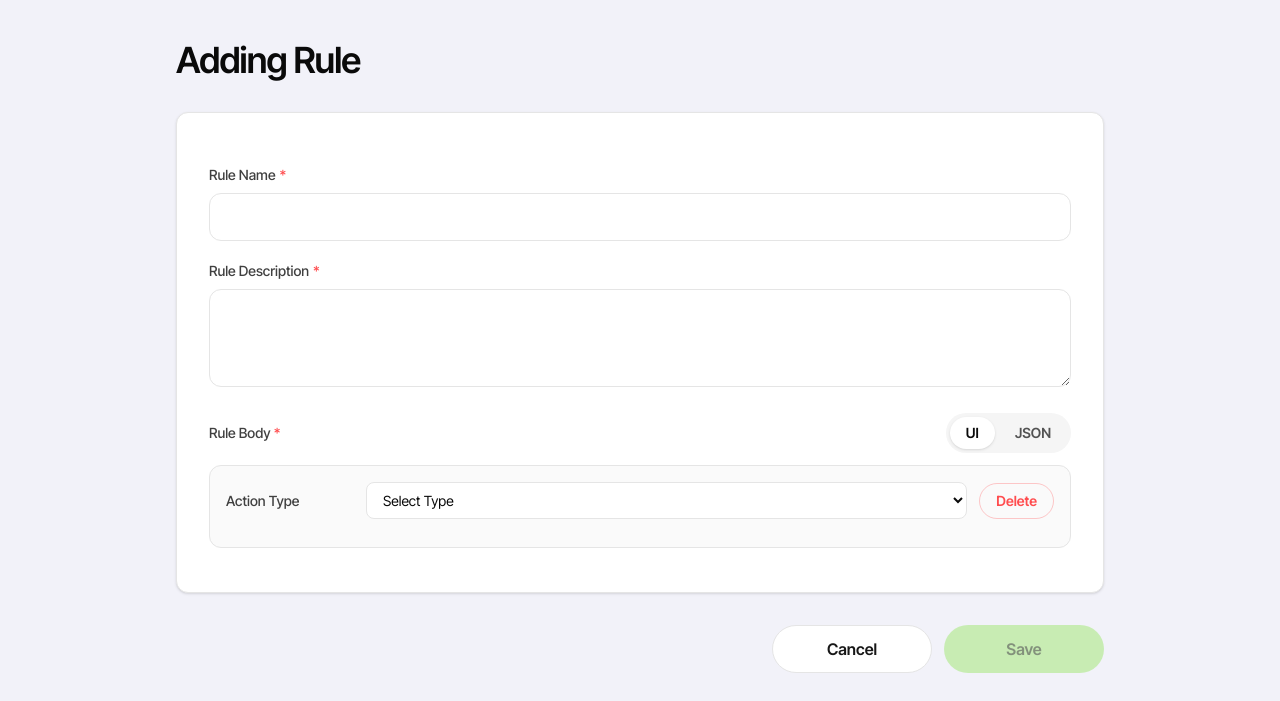
Test: AddRulePage (component integration, real RuleForm/ActionEditor) › shows a generic form error when addRule throws a non-validation error
The image size is (1280, 701).
Expected: the button "Save" is shown, 944,625 -> 1104,673
Type "X" into the field labelled "Rule Name*" at (640,217), box 209,193 -> 1071,241
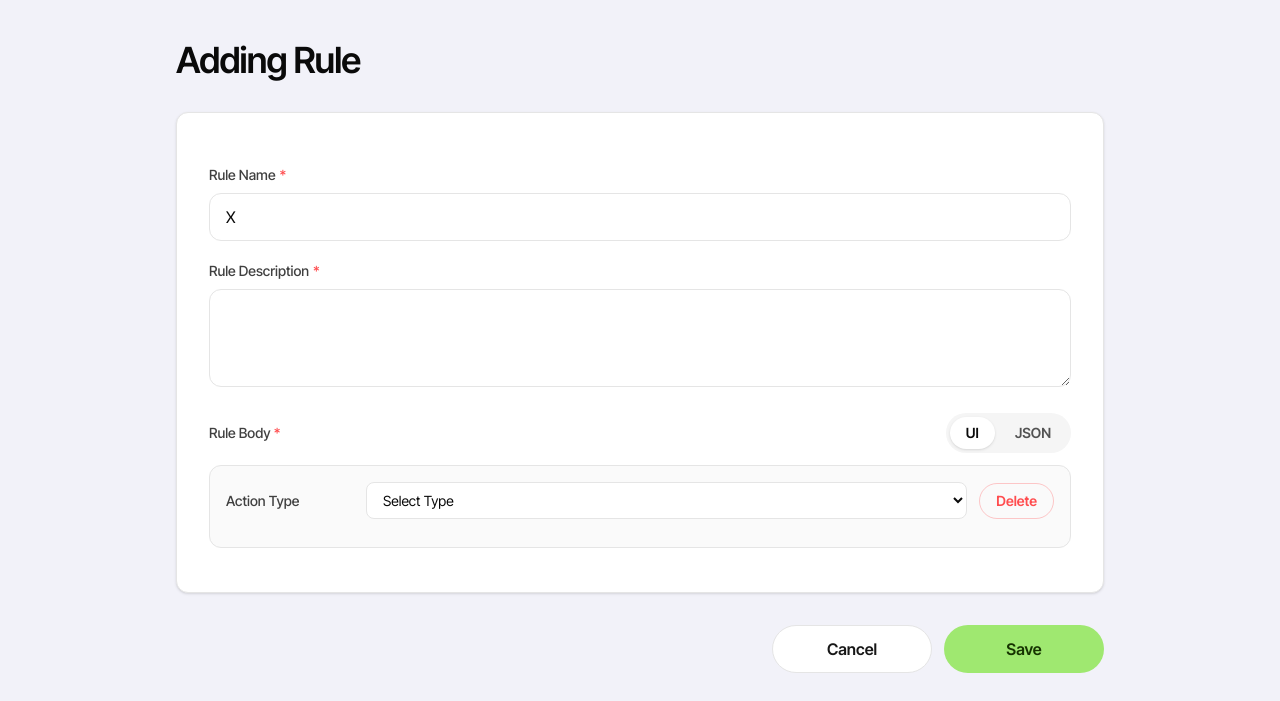
Select "Log" in the dropdown labelled "Action Type" at (667,500), box 366,482 -> 967,519
(page scrolled)
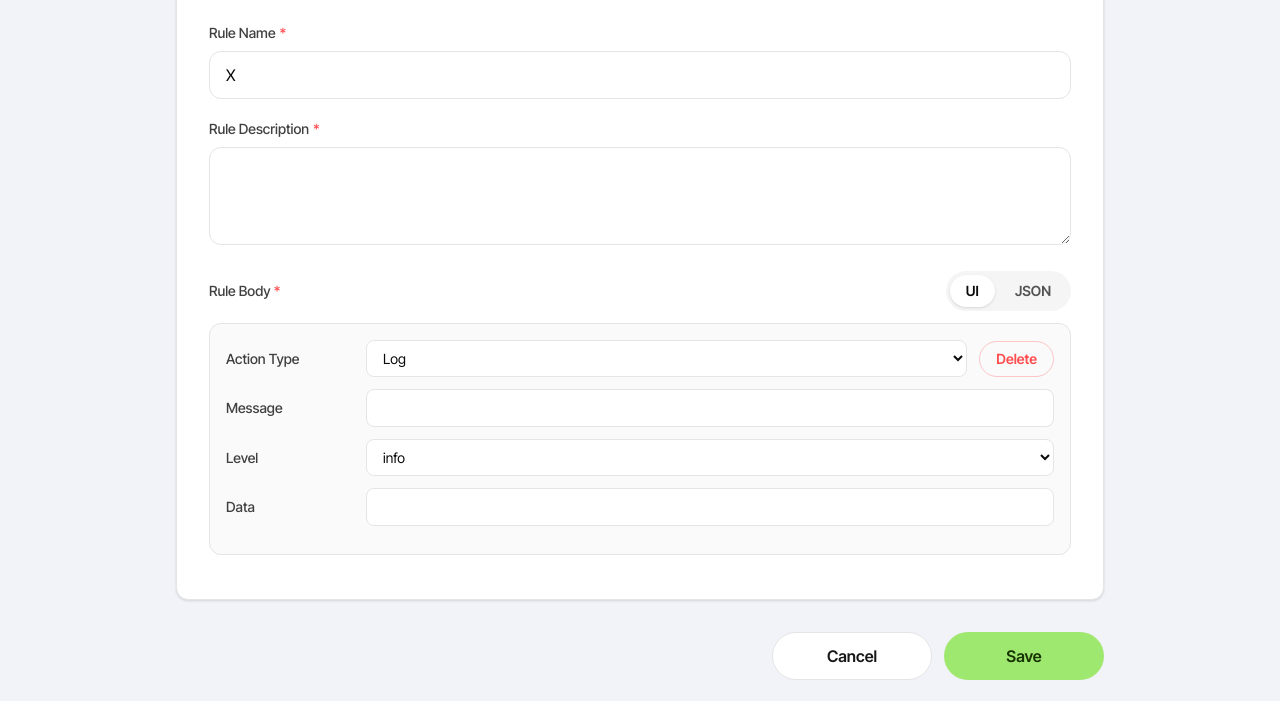
Click the button "Save" at (1024,656), box 944,632 -> 1104,680
(page scrolled)
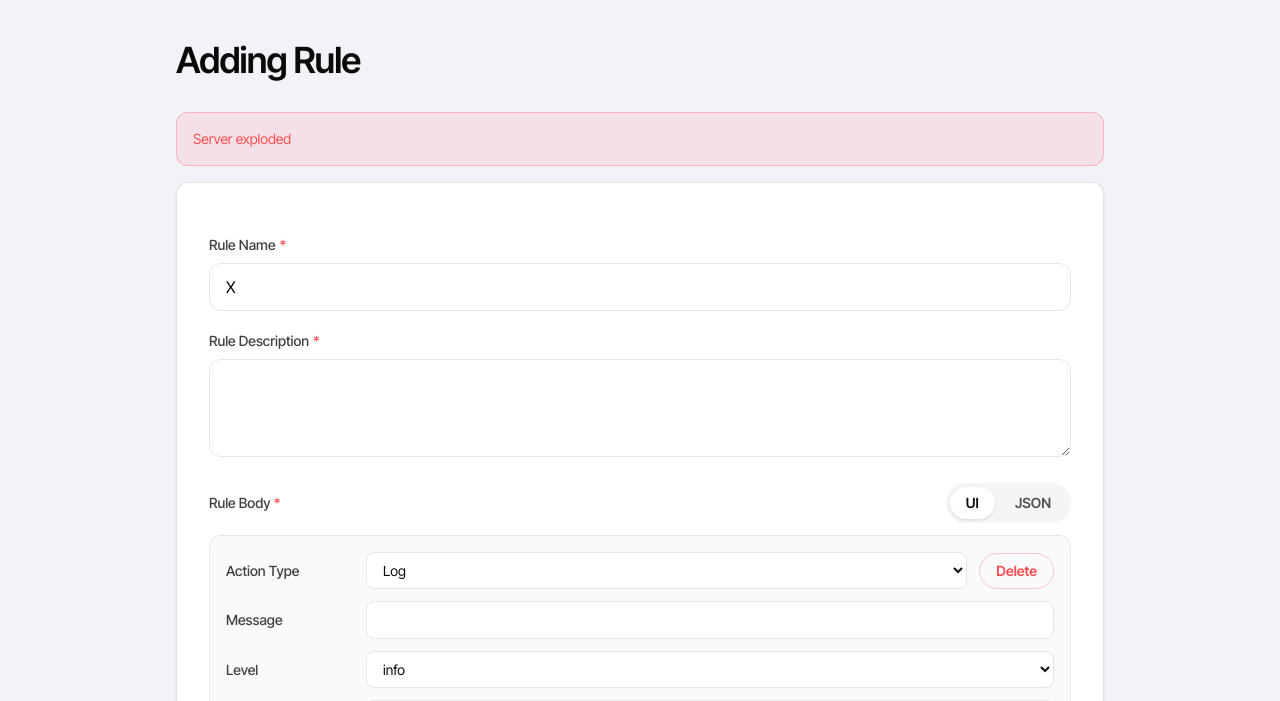
Expected: the text "Server exploded" is shown, 176,112 -> 1104,166
